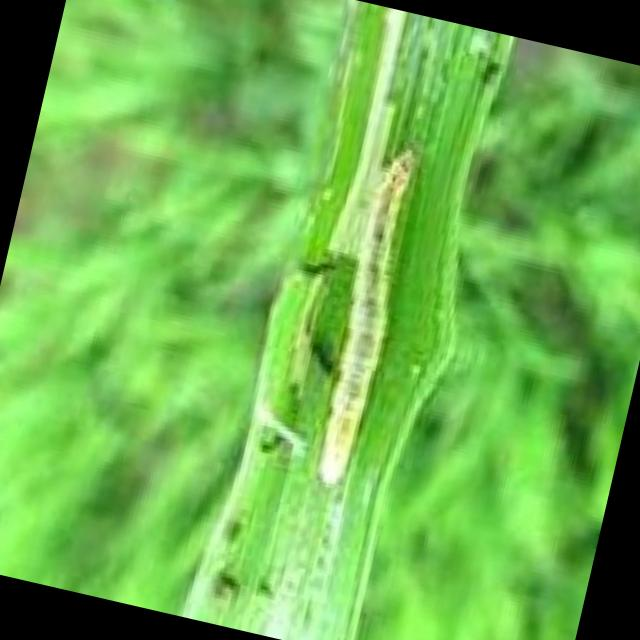leaf-folder: (284, 129, 444, 508)
